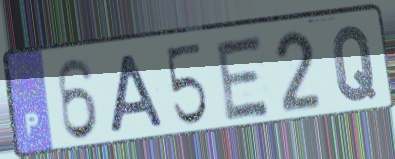2: (275, 27, 327, 117)
5: (162, 40, 209, 129)
6: (55, 56, 101, 144)
A: (108, 51, 168, 136)
E: (213, 32, 274, 124)
Q: (330, 23, 379, 105)
